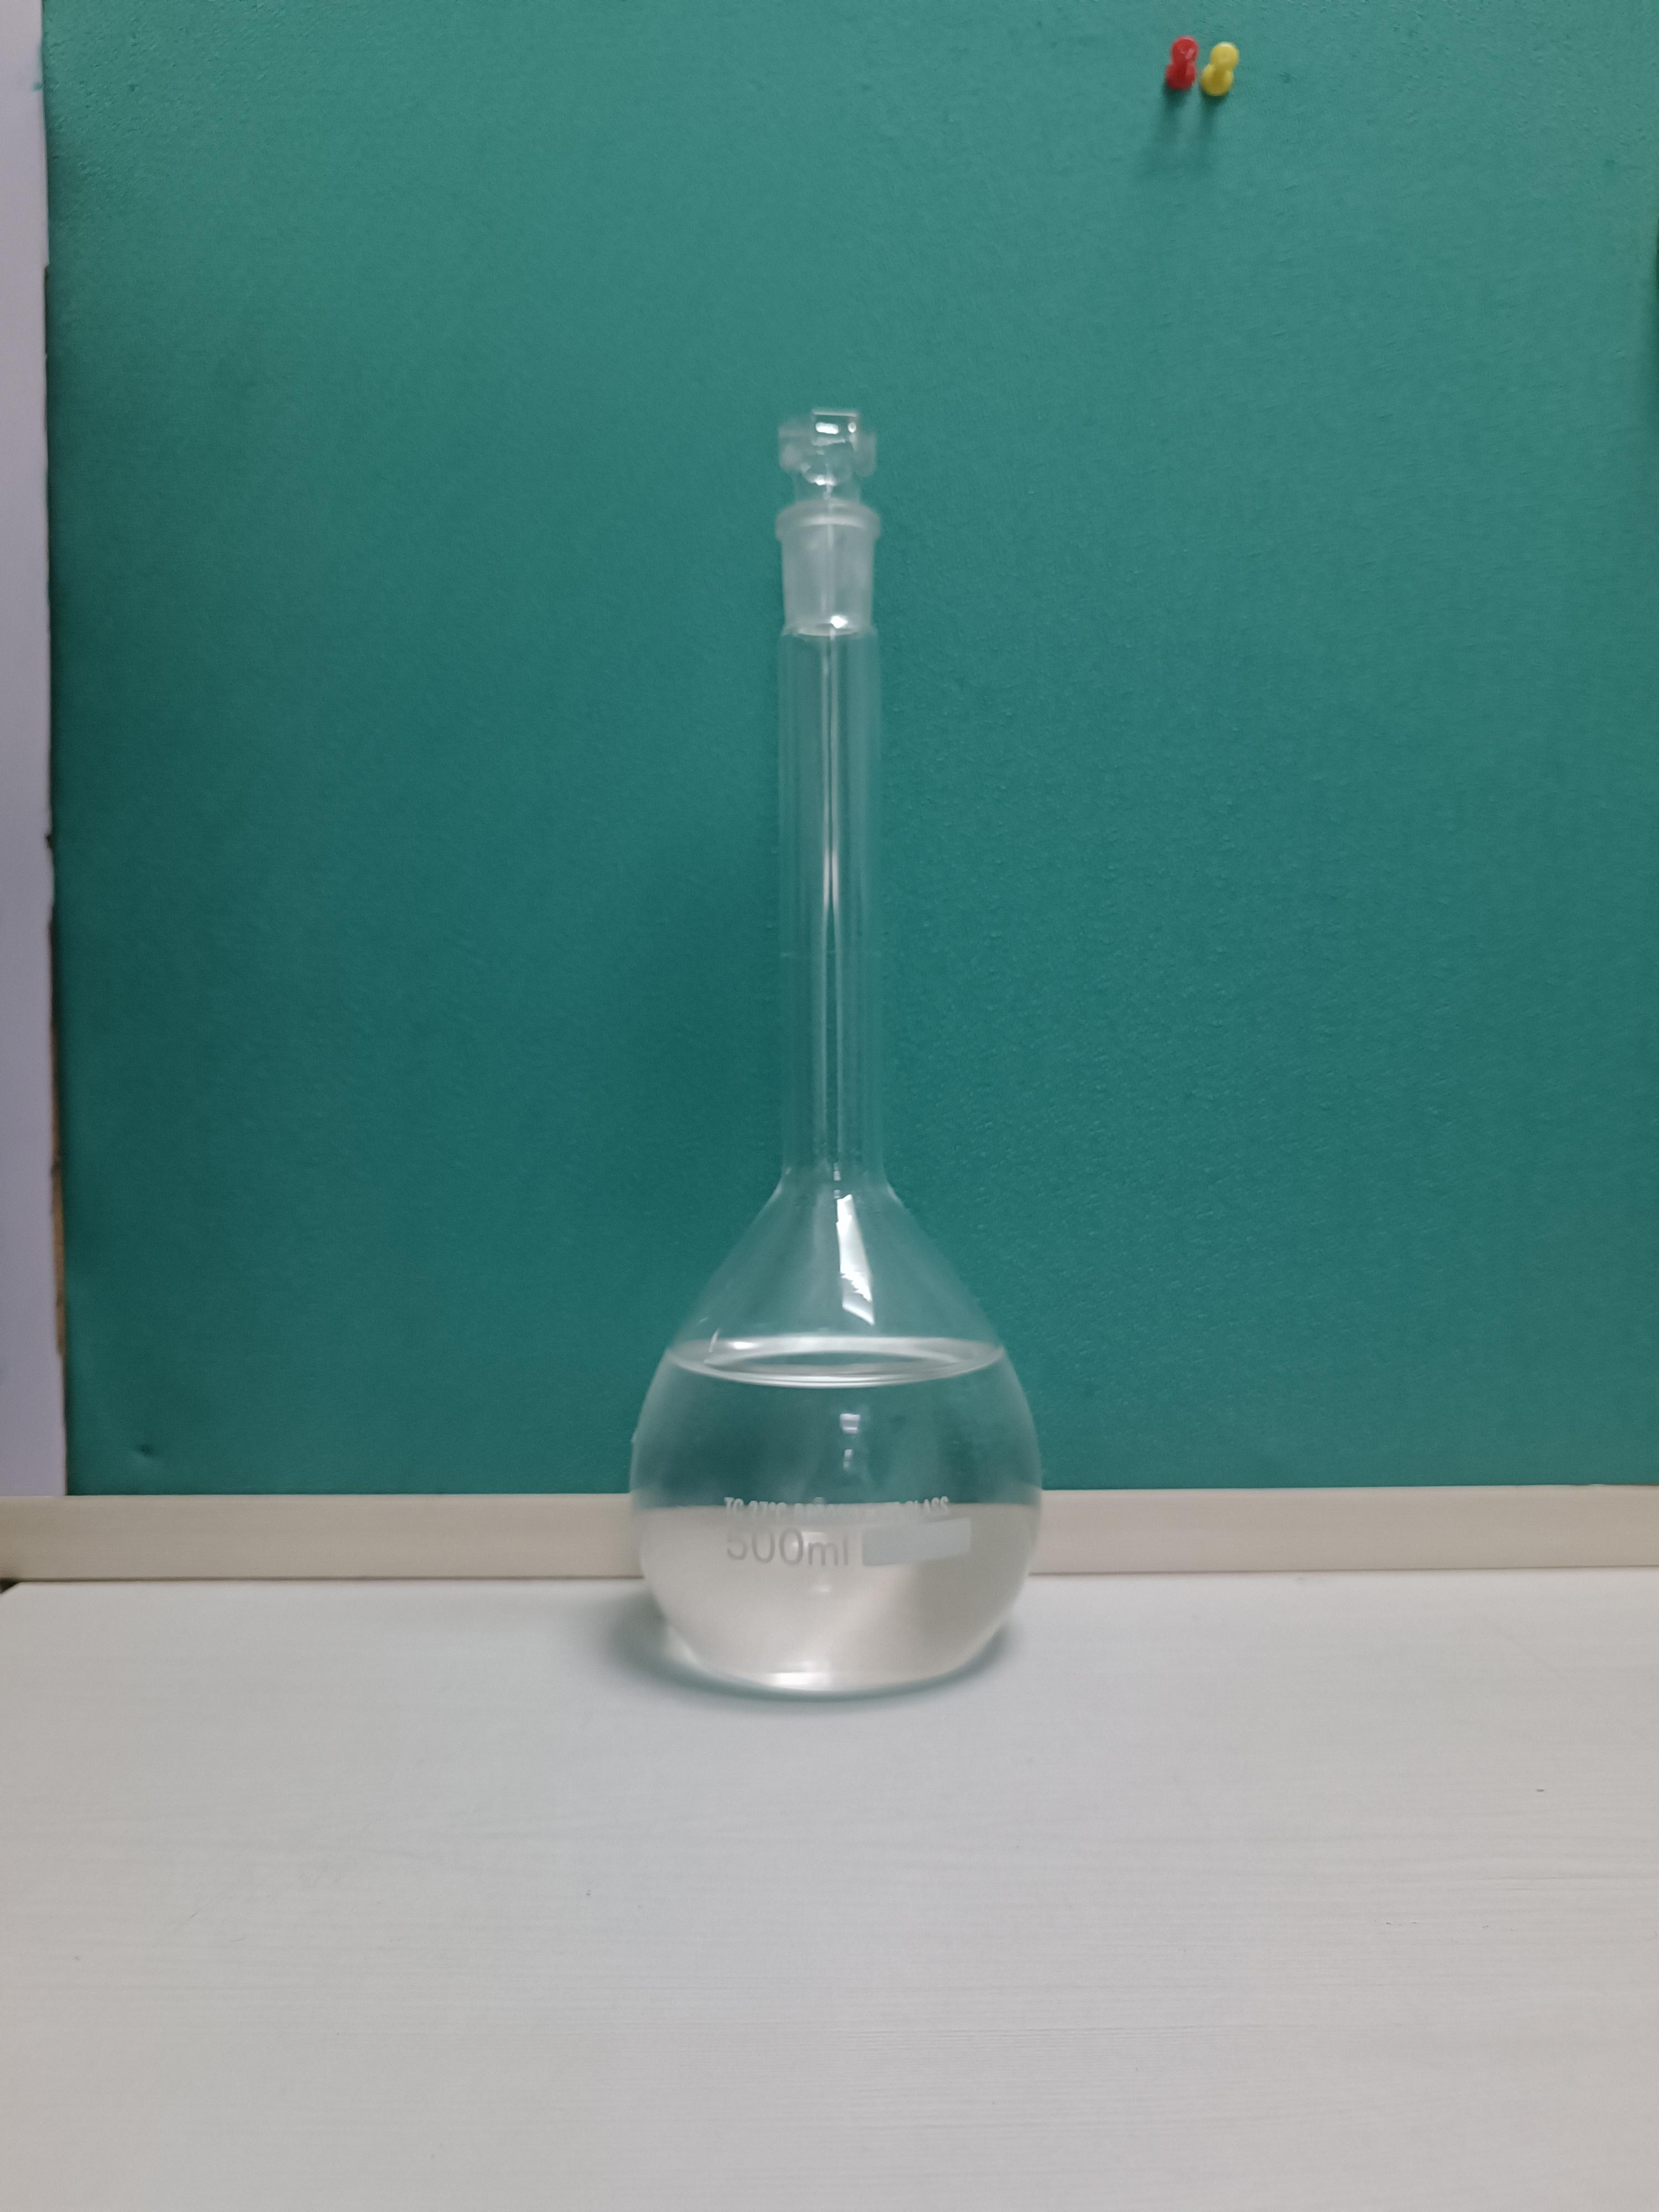Volumetric flask: (580, 381, 1068, 1705)
